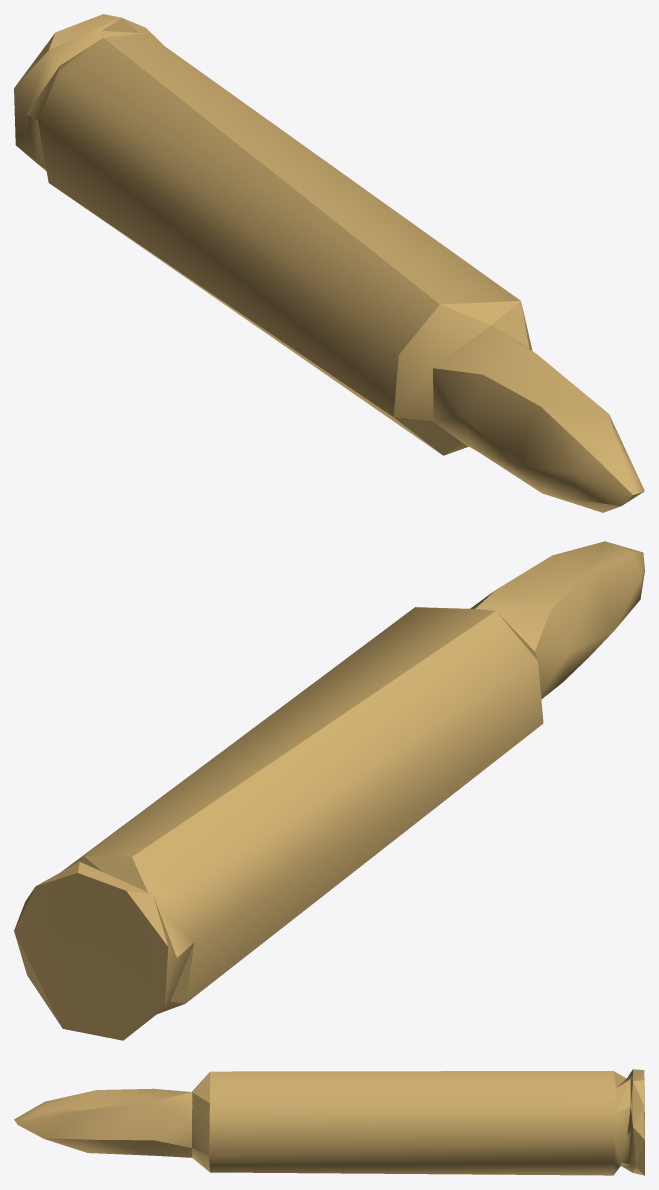
File: SM_AR15_MagRound_LOD2.fbx
3 renders of one model, top to bottom at view 1: azimuth 30°, elevation 25°; view 2: azimuth 150°, elevation 25°; view 3: azimuth 270°, elevation 25°, orthographic. The views are drawn at different scales.
Parts seen in each view (by area): view 1: SM_AR15_MagRound_LOD2; view 2: SM_AR15_MagRound_LOD2; view 3: SM_AR15_MagRound_LOD2.
Boxes of the visible parts, x1,y1,x2,y2 form: SM_AR15_MagRound_LOD2: (14,14,644,512); SM_AR15_MagRound_LOD2: (14,541,644,1040); SM_AR15_MagRound_LOD2: (14,1069,644,1175).
Bounding box in the file's own units: 0.9417 × 5.73 × 0.96.
